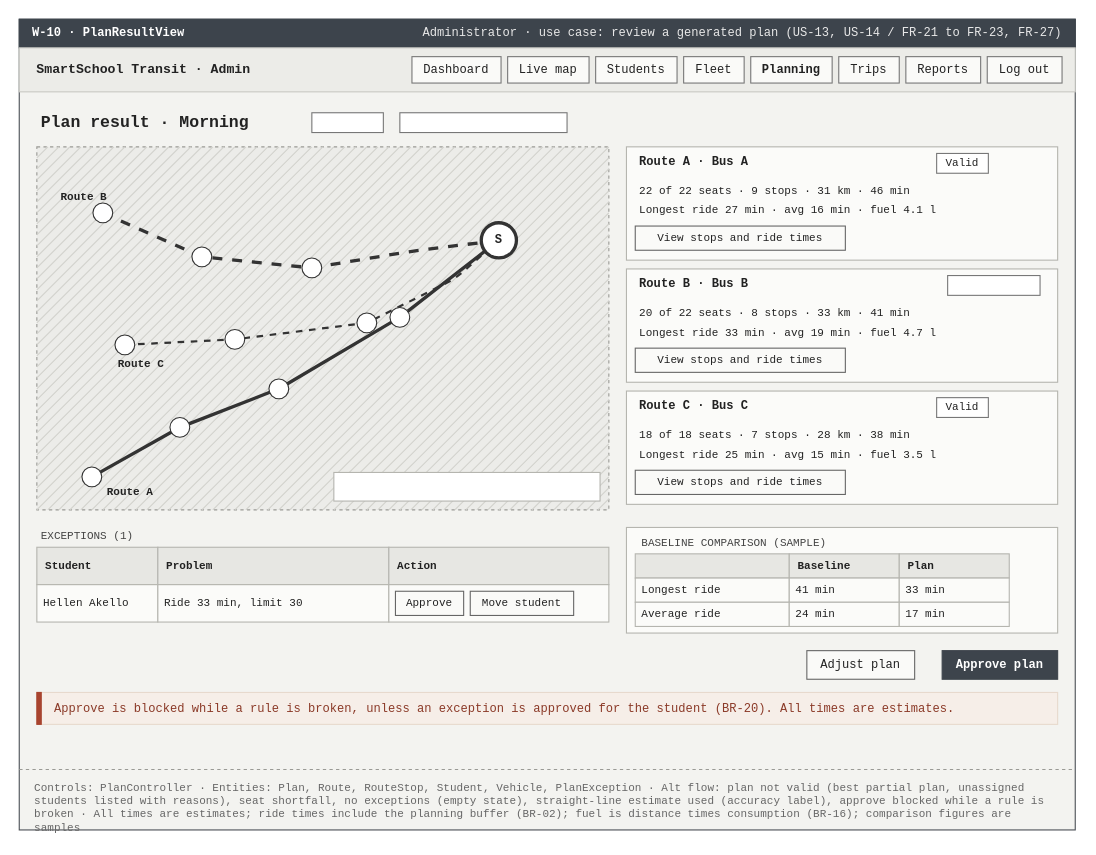
Some shapes in this 1096 by 855 pixel diagram are drawn without their labels. Here are the shapes that lost their labels. From the top down, the centre of each, then its label:
At point (347, 122): "Draft v1".
At point (483, 122): "Valid with 1 exception".
At point (993, 284): "1 exception".
At point (466, 486): "solid and dashed lines: routes".
